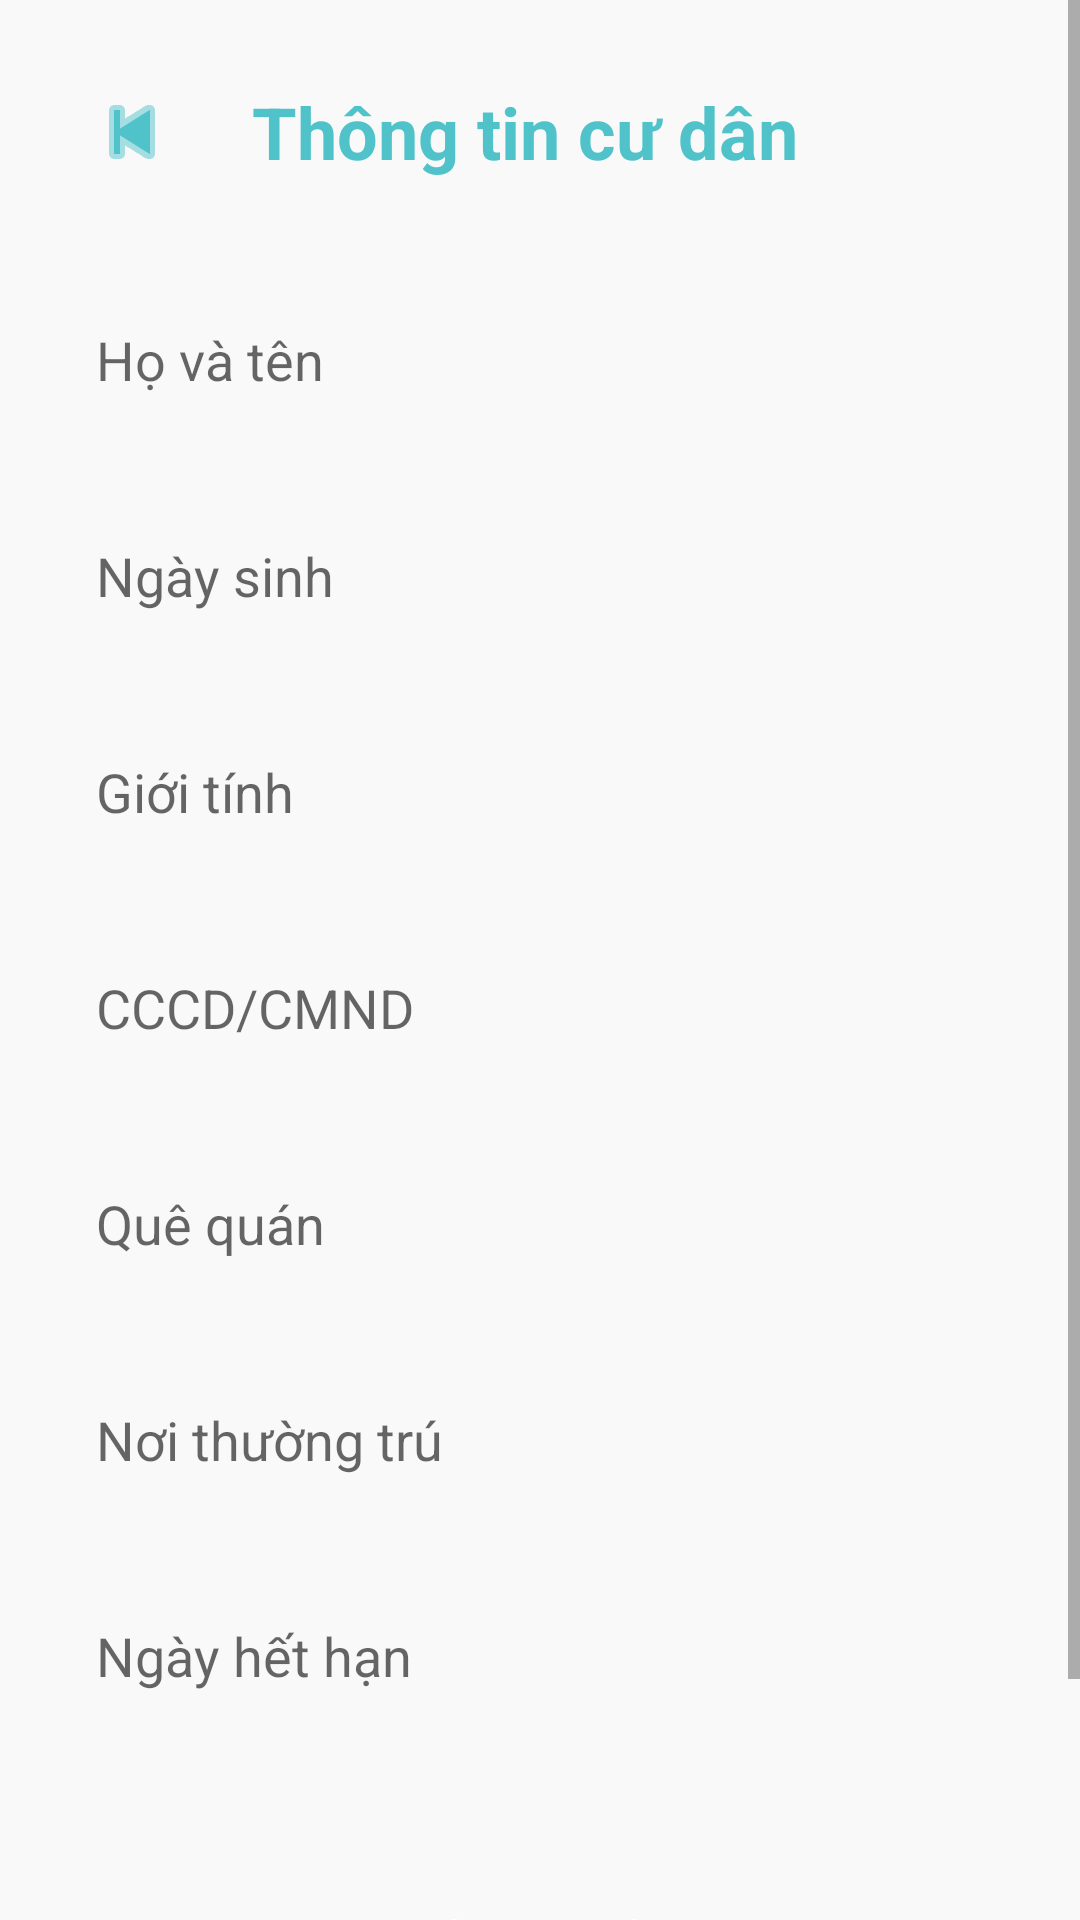

Point at icon controls on the screen. Image size 1080 × 1920, points as (x,y).
Quay về: (132,132)
